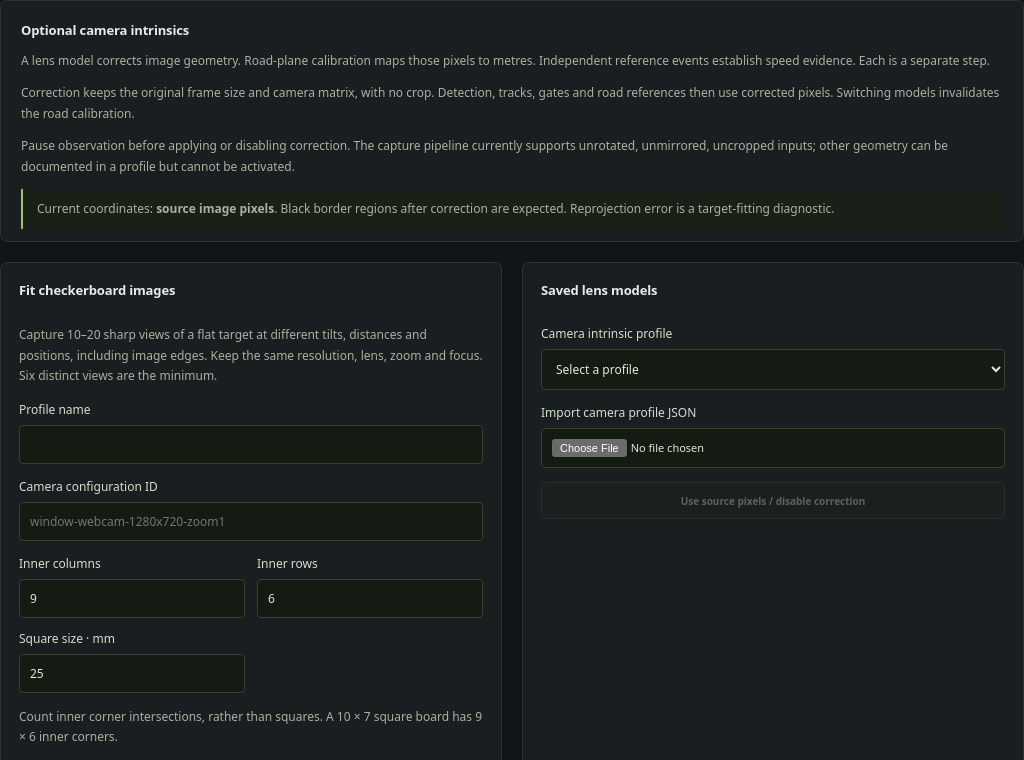
it: optional camera calibration › deletes inactive profiles and resets the selection
Select "Synthetic webcam model · 640 × 480" in the dropdown labelled "Camera intrinsic profile" at (773, 370), box [541,349,1005,390]
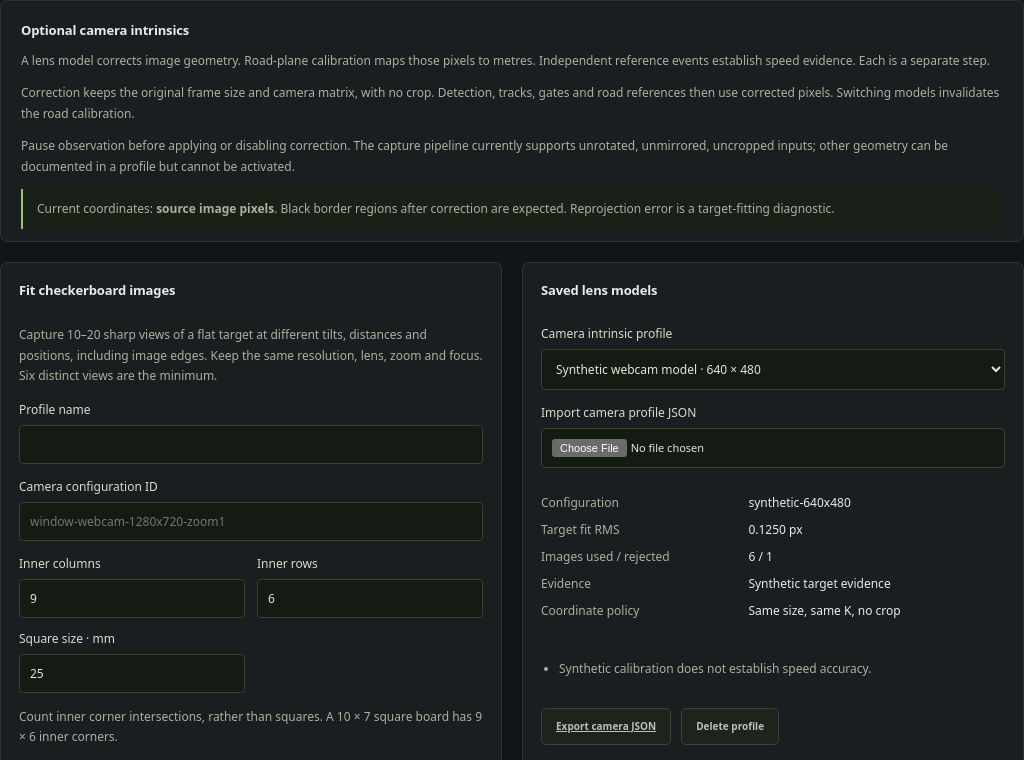
Click the button "Delete profile" at (730, 726), box [681,708,779,745]
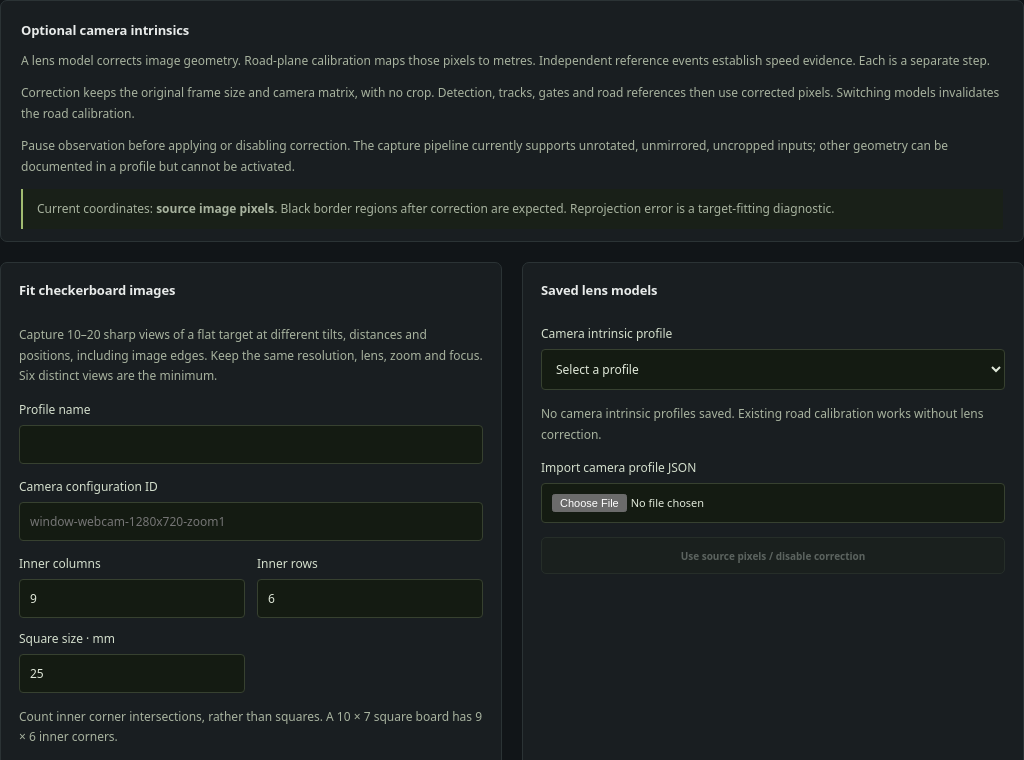
Expected: the text "No camera intrinsic profiles saved" is shown, [541,405,984,443]
